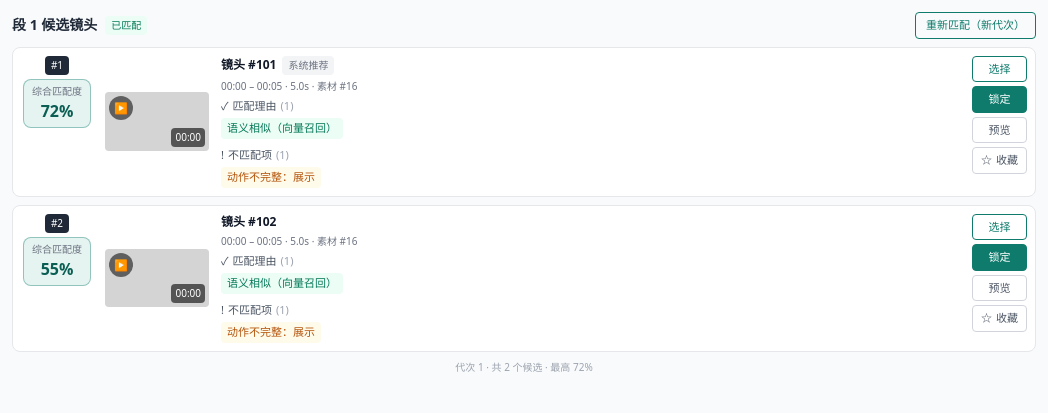
it: CandidatePanel › select 返回 409 → 冲突提示
The width and height of the screenshot is (1048, 413).
Click the button with test id "candidate-select" in the row of "系统推荐": {"x": 1000, "y": 69} [972,56,1027,82]
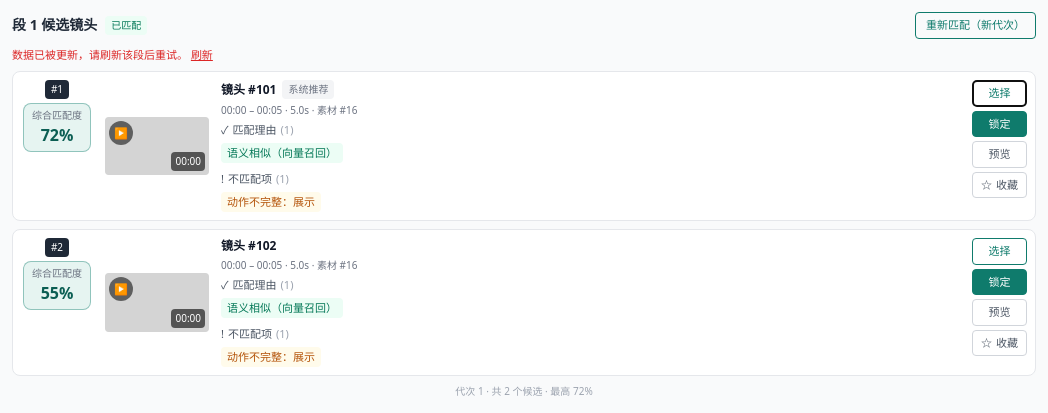
Check: the message "数据已被更新，请刷新该段后重试。 刷新" is shown, box [12,46,213,63]
